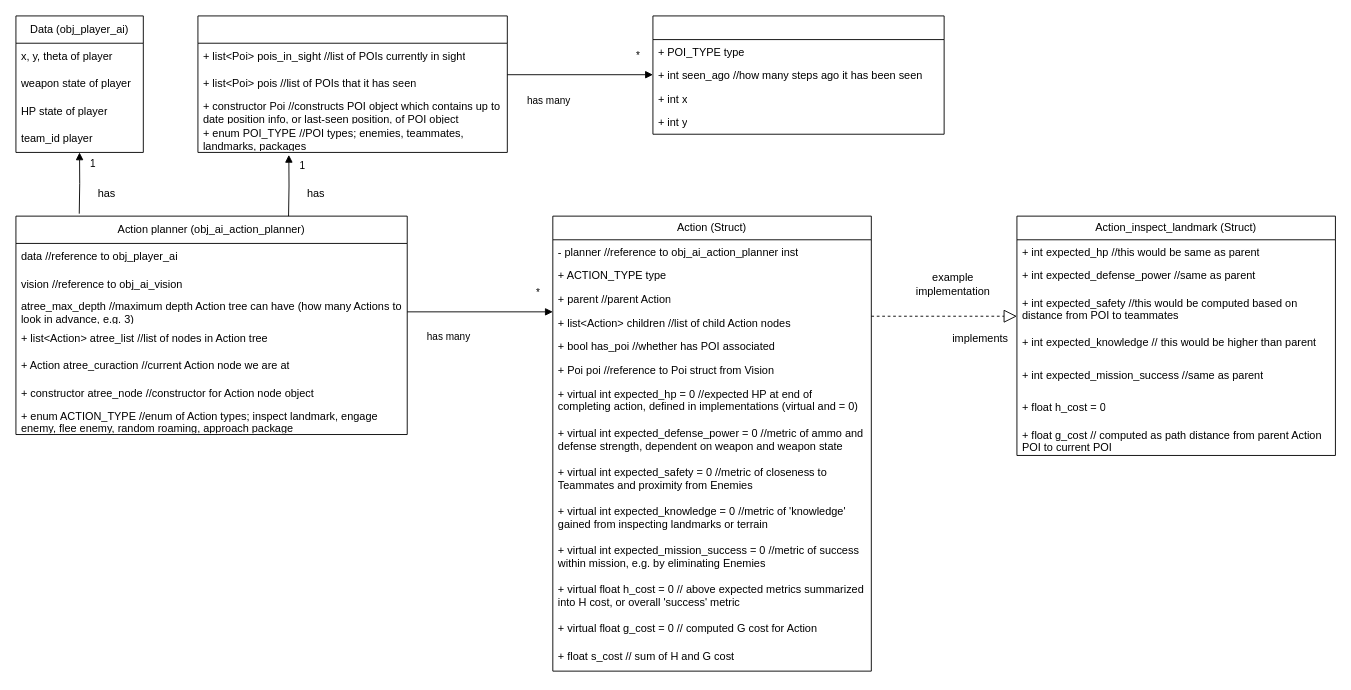
The diagram is 1351 pixels wide and 690 high, and some of its shapes have lost their labels. The shapes that lost their labels are listed below. From the top down, each one's box as (x1, y1, x2, y2) in pixels, then its label:
(197, 15, 507, 152): Vision (obj_ai_vision)
(652, 15, 944, 134): Poi (Struct)
